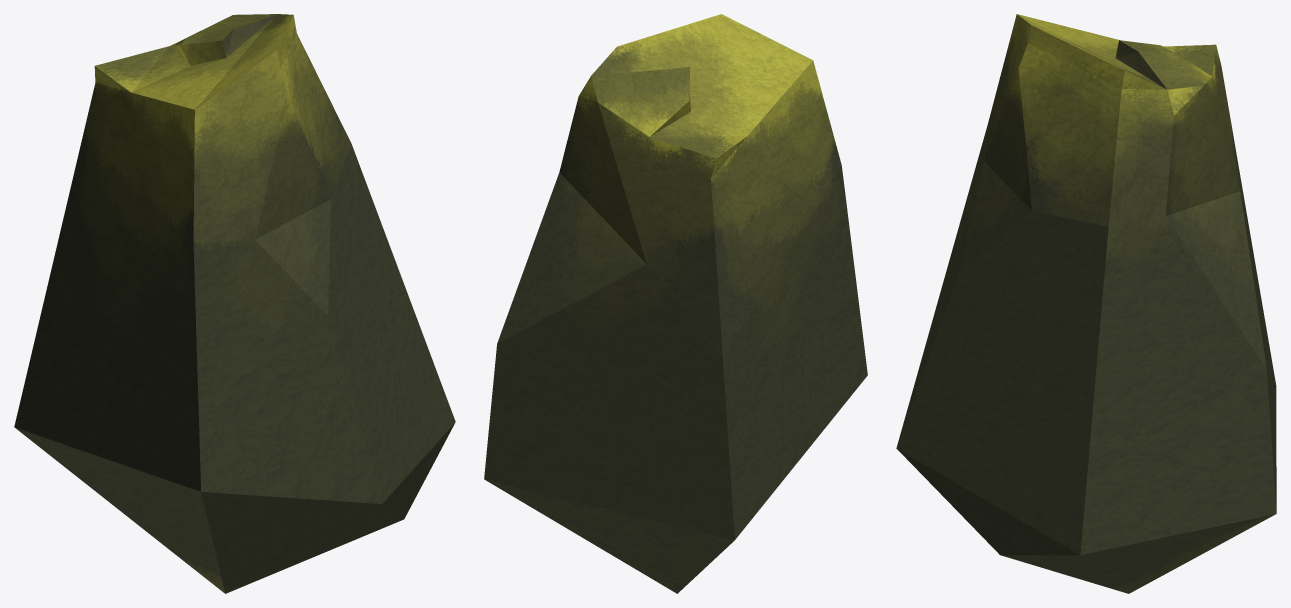
File: oreE3.fbx
3 views of the same model, side by side, from view 1: azimuth 30°, elevation 25°; view 2: azimuth 150°, elevation 25°; view 3: azimuth 270°, elevation 25° (orthographic). The views are drawn at different scales.
Visible parts, largest first — view 1: Cube.005; view 2: Cube.005; view 3: Cube.005.
Part boxes in pixels (x1,y1,x2,y2): Cube.005: (14, 14, 455, 593); Cube.005: (484, 14, 867, 593); Cube.005: (896, 14, 1276, 593).
Bounding box in the file's own units: 173 × 287 × 177.
